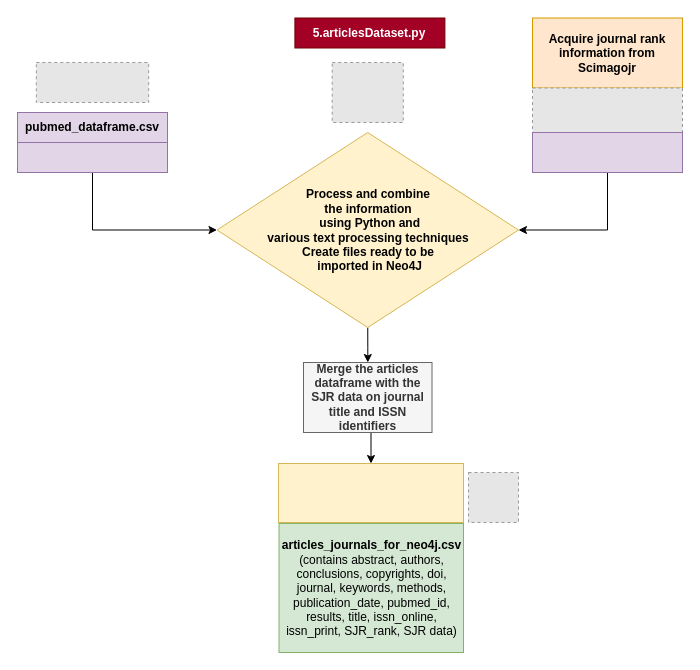
Some shapes in this 700 by 670 pixel diagram are drawn without their labels. Grey dashed boxes stand in for pictures. Each missing label, with the centre of its shape:
"Export data to CSV format Contains articles/journals data and labels" belongs at (x=371, y=492).
"Journal_Citations(from SJR)_2019.csv" belongs at (x=607, y=152).
"PubmedJournals.csv" belongs at (x=92, y=157).
